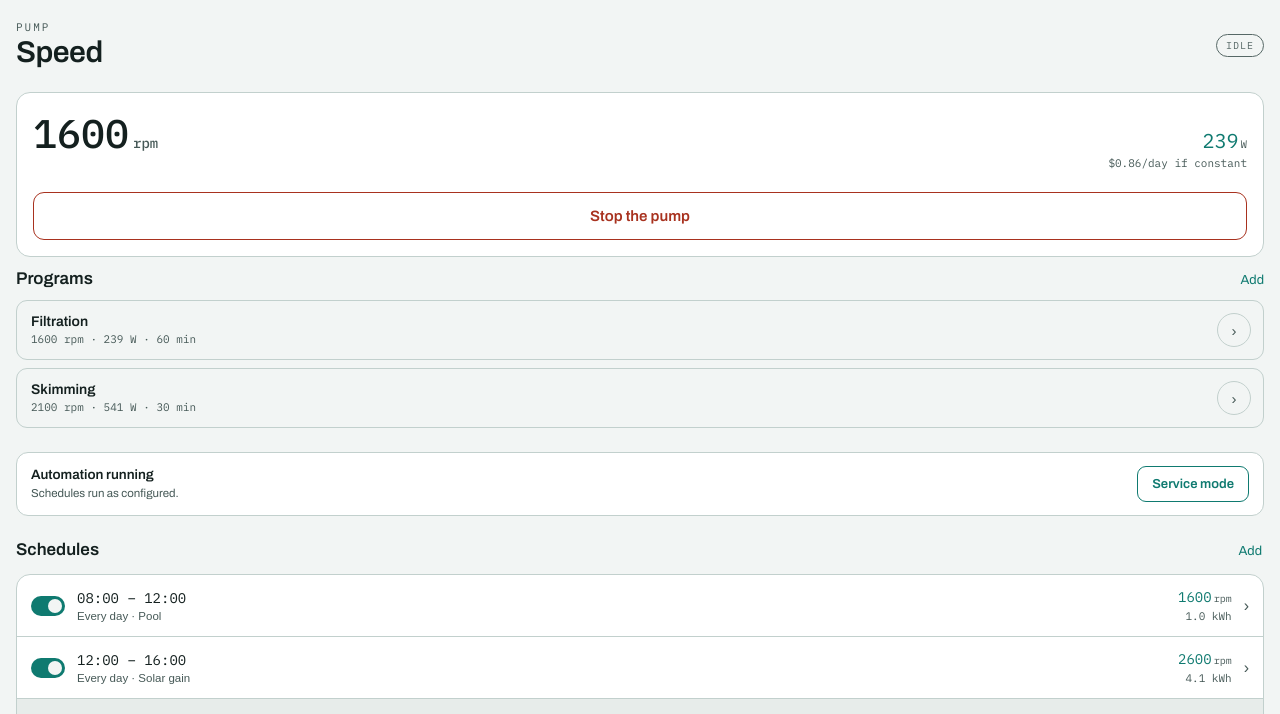
Test: Confirming anything that moves equipment › says what the second tap will do
This screenshot has width=1280, height=714.
Click the button "Stop the pump" at (640, 216), box [33, 192, 1247, 240]
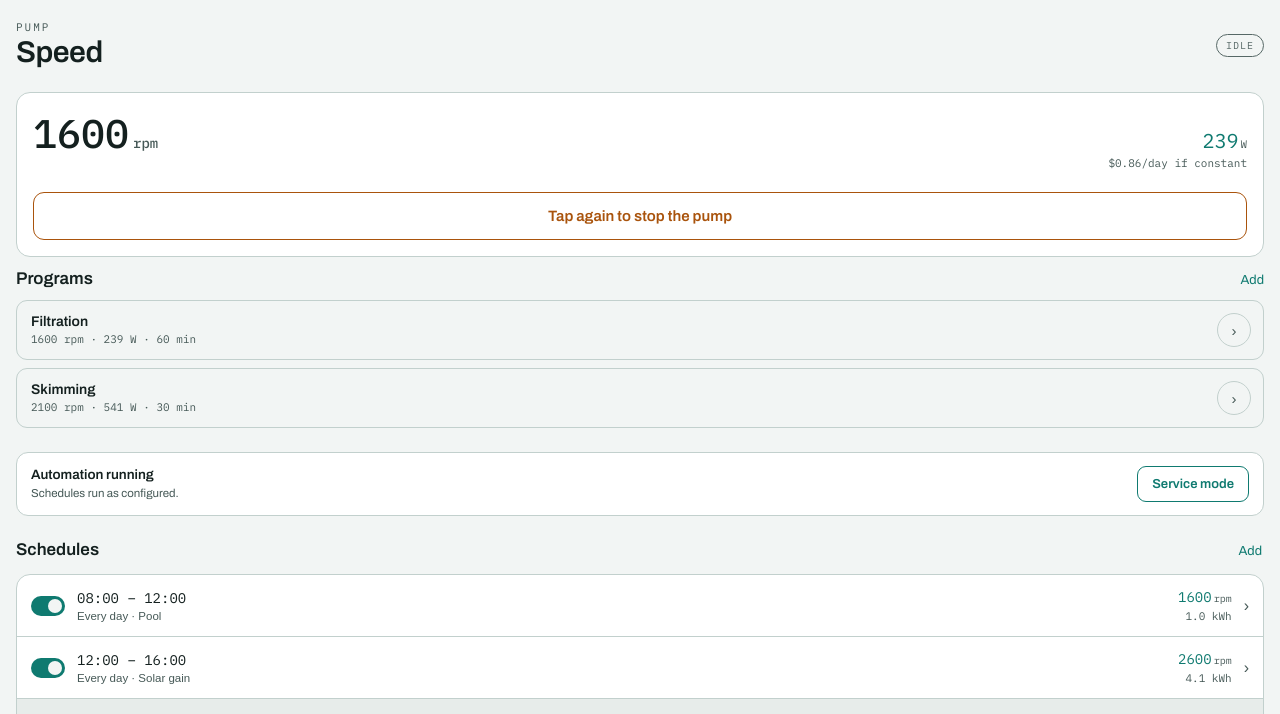
Now the button "Tap again to stop the pump" is shown, box [33, 192, 1247, 240]
